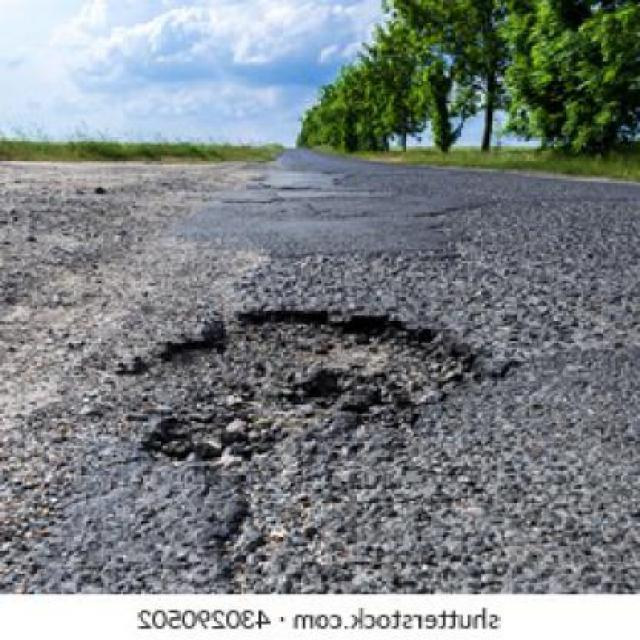Pothole: (114, 305, 511, 472)
